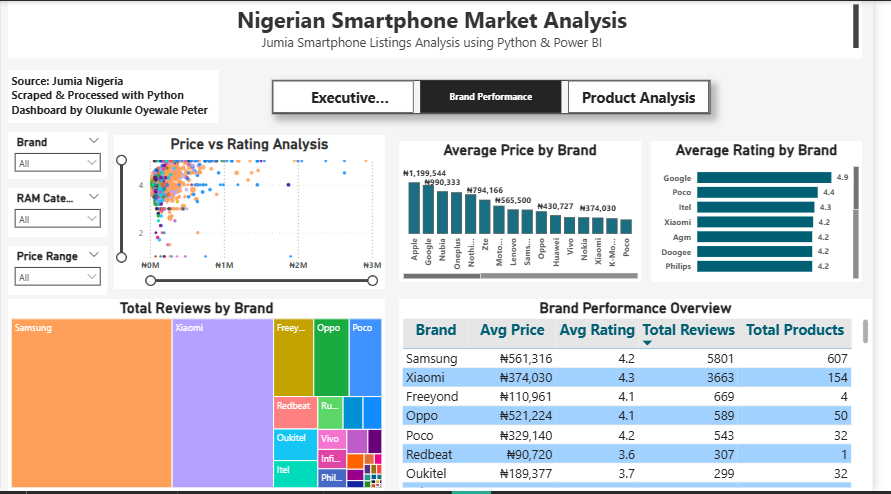

This screenshot's page, from the dashboard's own definition file:
{"tool":"powerbi","page":{"name":"Brand Performance","canvas":[1280,720],"ordinal":1},"visuals":[{"type":"textbox","box":[10.1,0,1254.8,84],"z":0},{"type":"slicer","fields":{"Values":["Product_variant.Brand"]},"box":[10.1,193.2,146.1,68.9],"z":1000},{"type":"slicer","fields":{"Values":["Product_variant.Price Range"]},"box":[10.1,359.5,146.1,72.2],"z":2000},{"type":"slicer","fields":{"Values":["Product_variant.RAM Category"]},"box":[10.1,274.6,146.1,72.2],"z":3000},{"type":"scatterChart","title":"Price vs Rating Analysis","fields":{"Y":["_Measure.Average Rating"],"X":["_Measure.Average Price"],"Size":["_Measure.Total Reviews"],"Series":["Product_variant.Brand"],"Category":["Product_variant.Variant Key"]},"box":[166,196.9,398.2,224.8],"z":4000},{"type":"clusteredColumnChart","title":"Average Price by Brand","fields":{"Category":["Product_variant.Brand"],"Y":["_Measure.Average Price"]},"box":[584.8,205.7,355.6,207.2],"z":5000},{"type":"clusteredBarChart","title":"Average Rating by Brand","fields":{"Category":["Product_variant.Brand"],"Y":["_Measure.Average Rating"]},"box":[955.1,205.7,310,207.2],"z":6000},{"type":"treemap","title":"Total Reviews by Brand","fields":{"Group":["Product_variant.Brand"],"Values":["_Measure.Total Reviews"]},"box":[10.1,438.4,554.3,282.2],"z":7000},{"type":"tableEx","title":"Brand Performance Overview","fields":{"Values":["Product_variant.Brand","_Measure.Average Price","_Measure.Average Rating","_Measure.Total Reviews","_Measure.Total Products"]},"box":[584.6,438.4,695.4,282.2],"z":8000},{"type":"pageNavigator","box":[398.2,116.1,643.6,50],"z":9000},{"type":"textbox","box":[10.3,101.4,308.6,77.9],"z":10000}]}

Visuals, with their boxes in screenshot pixels (x1, y1, x2, y2), scaled from the page's 1280x720 canvas onto the 891x494 screenshot:
textbox: 7,0,880,58
slicer - Product_variant.Brand: 7,133,109,180
slicer - Product_variant.Price Range: 7,247,109,296
slicer - Product_variant.RAM Category: 7,188,109,238
"Price vs Rating Analysis" scatterChart: 116,135,393,289
"Average Price by Brand" clusteredColumnChart: 407,141,655,283
"Average Rating by Brand" clusteredBarChart: 665,141,881,283
"Total Reviews by Brand" treemap: 7,301,393,493
"Brand Performance Overview" tableEx: 407,301,890,493
pageNavigator: 277,80,725,114
textbox: 7,70,222,123
